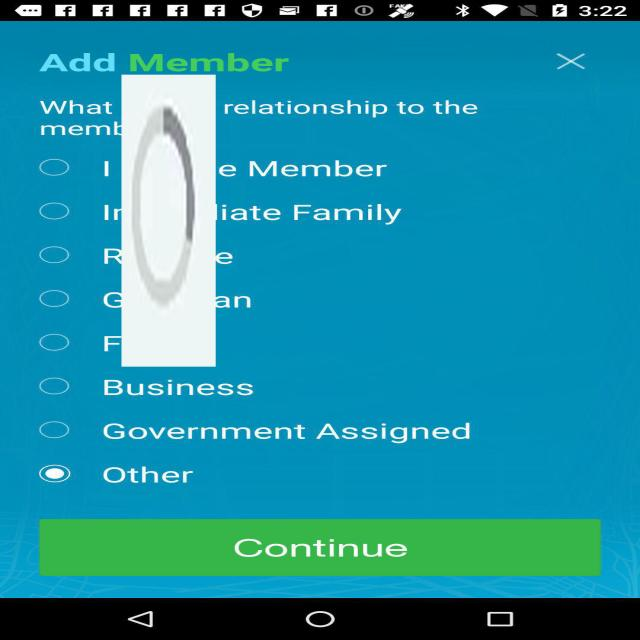misdirection: (122, 75, 216, 366)
